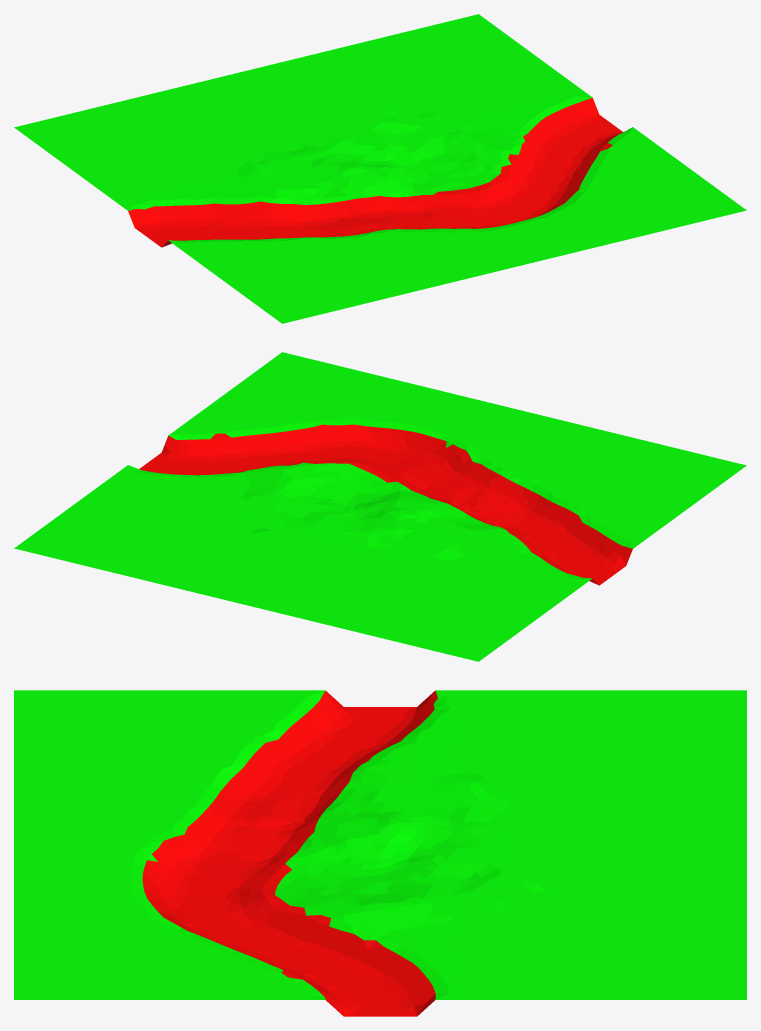
The model's file is River03.fbx.
3 renders of one model, top to bottom at view 1: azimuth 30°, elevation 25°; view 2: azimuth 150°, elevation 25°; view 3: azimuth 270°, elevation 25°, orthographic. The views are drawn at different scales.
Visible parts, largest first — view 1: River03; view 2: River03; view 3: River03.
Boxes of the visible parts, <box> form: River03: <box>14,14,746,323</box>; River03: <box>14,352,746,661</box>; River03: <box>14,690,746,1016</box>.
Size of the model in its own units: 5009 by 181 by 5009.
